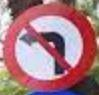Cam re: (5, 4, 94, 89)
